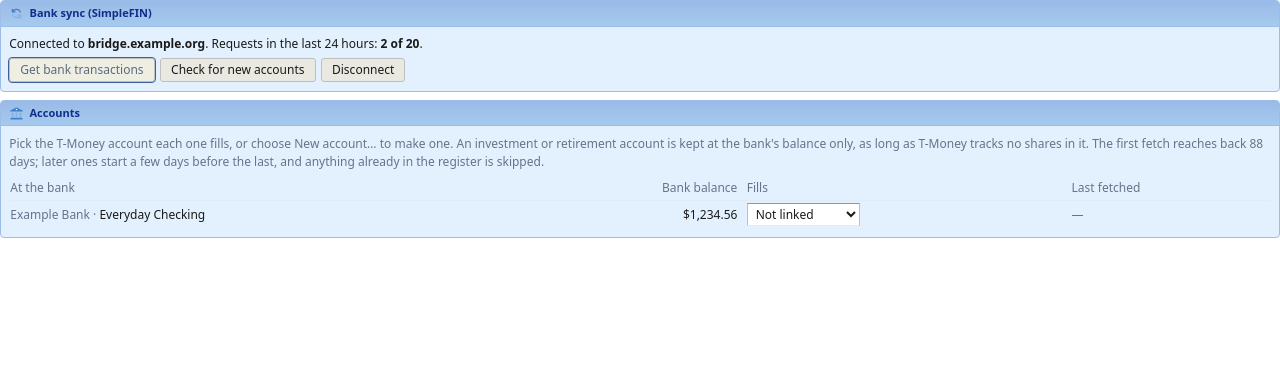
Test: New account… from a SimpleFIN account › a failed link closes the form, so a retry cannot make a second account
Step 1. Select "New account…" in the dropdown named "T-Money account for Everyday Checking" → (803, 215), box [747, 203, 860, 226]
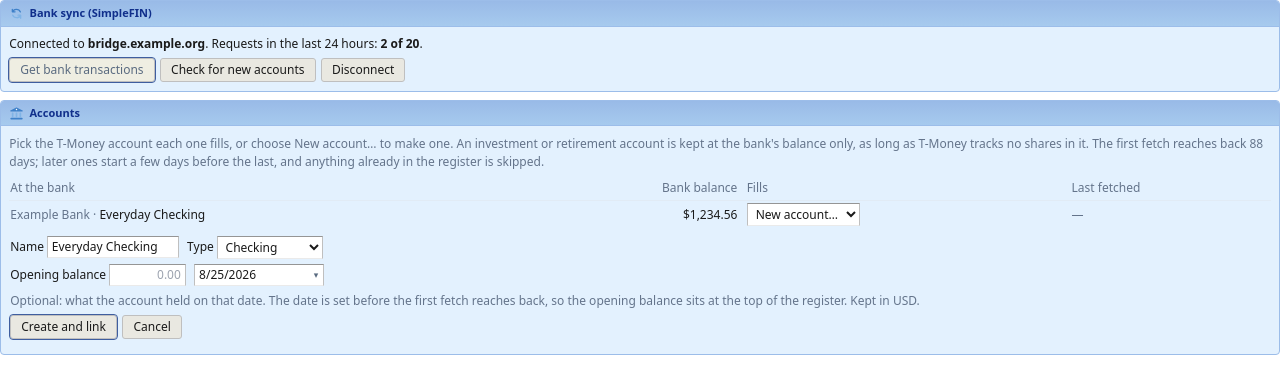
Step 2. Submit the form named "New account for Everyday Checking", box [10, 236, 920, 339]
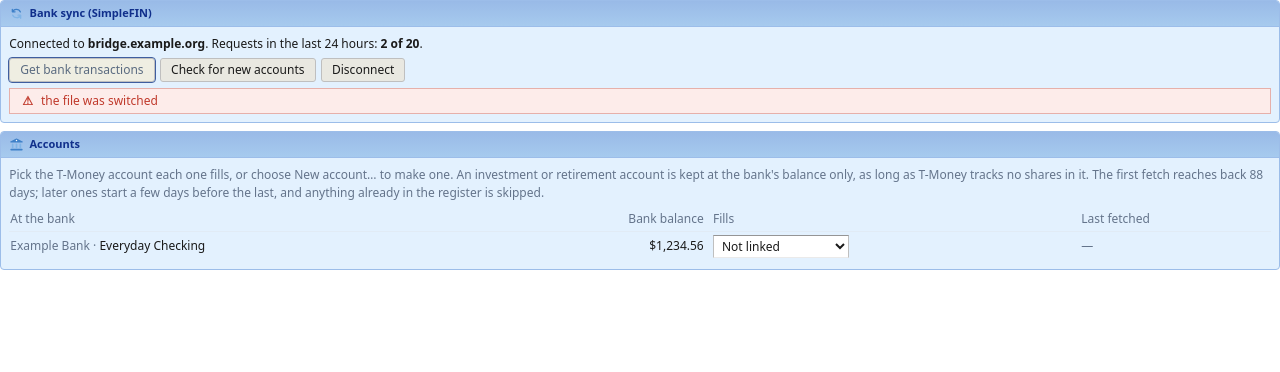
Check: the text "the file was switched" is shown, box [41, 92, 158, 109]
